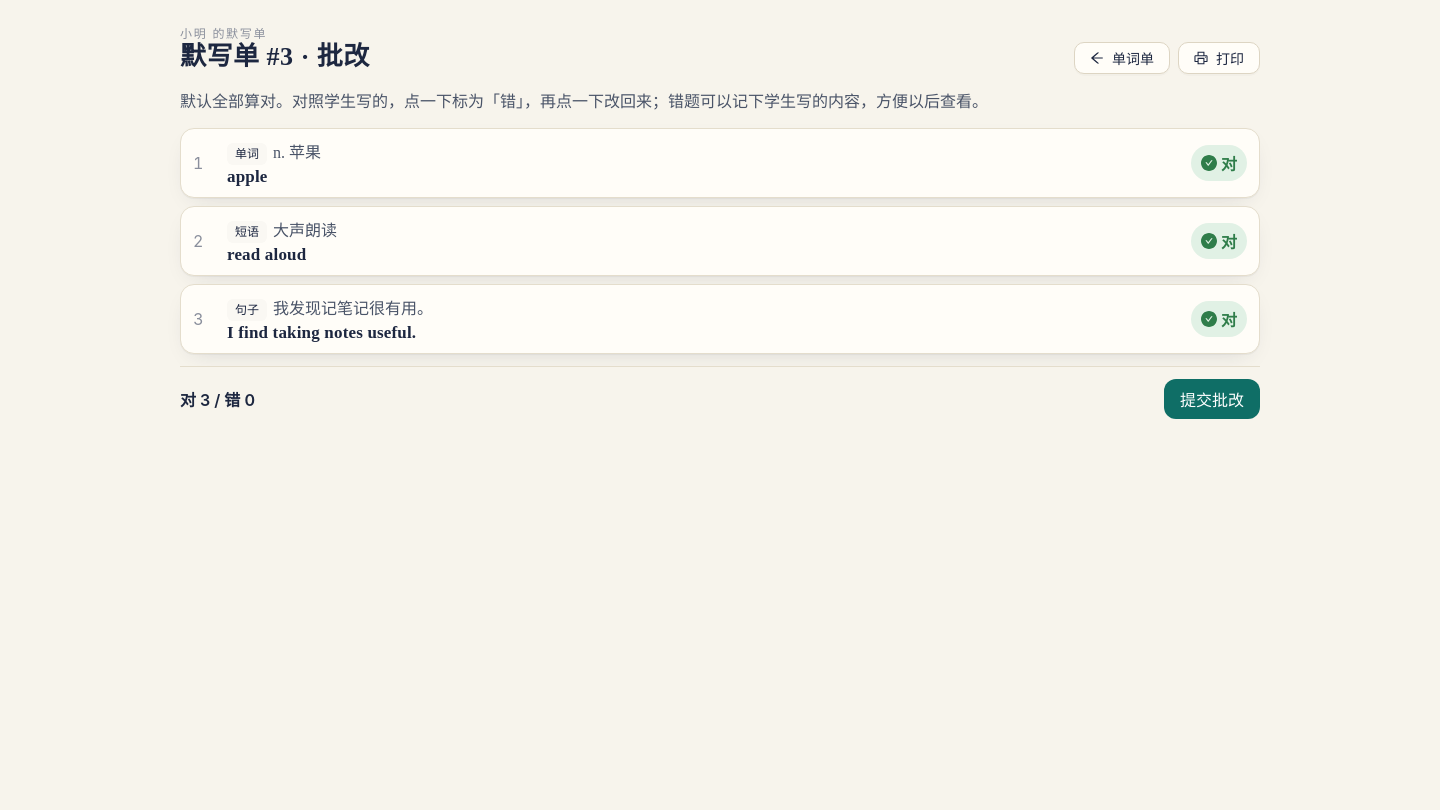
SheetGrade › 默认全对；点一下标错、再点改回；错题可记下内容；确认后按明细下标提交
This screenshot has width=1440, height=810.
Click the button "2 短语 大声朗读 read aloud 对" at {"x": 247, "y": 232}, box [181, 206, 1259, 274]
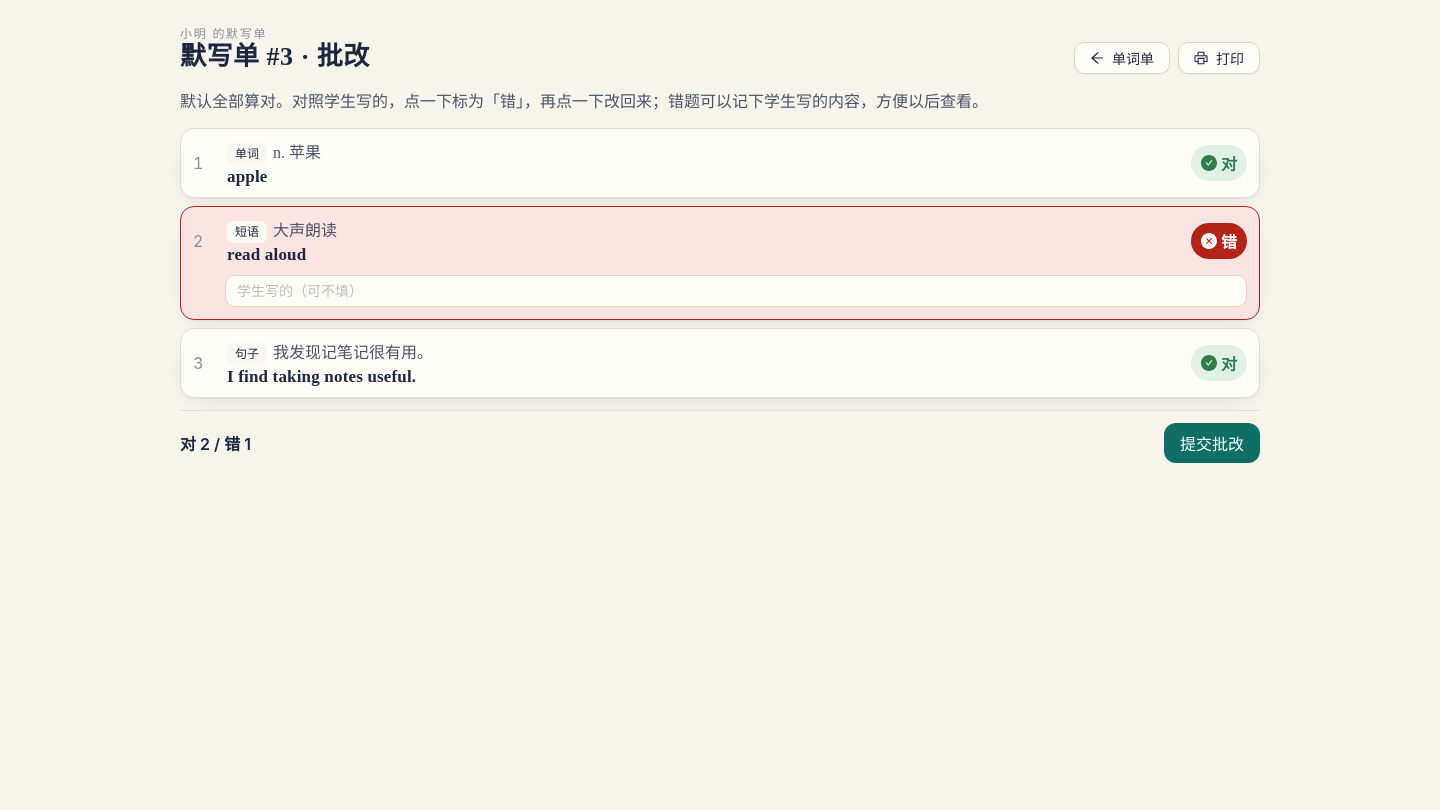
Click the button "3 句子 我发现记笔记很有用。 I find taking notes useful. 对" at {"x": 247, "y": 354}, box [181, 328, 1259, 396]
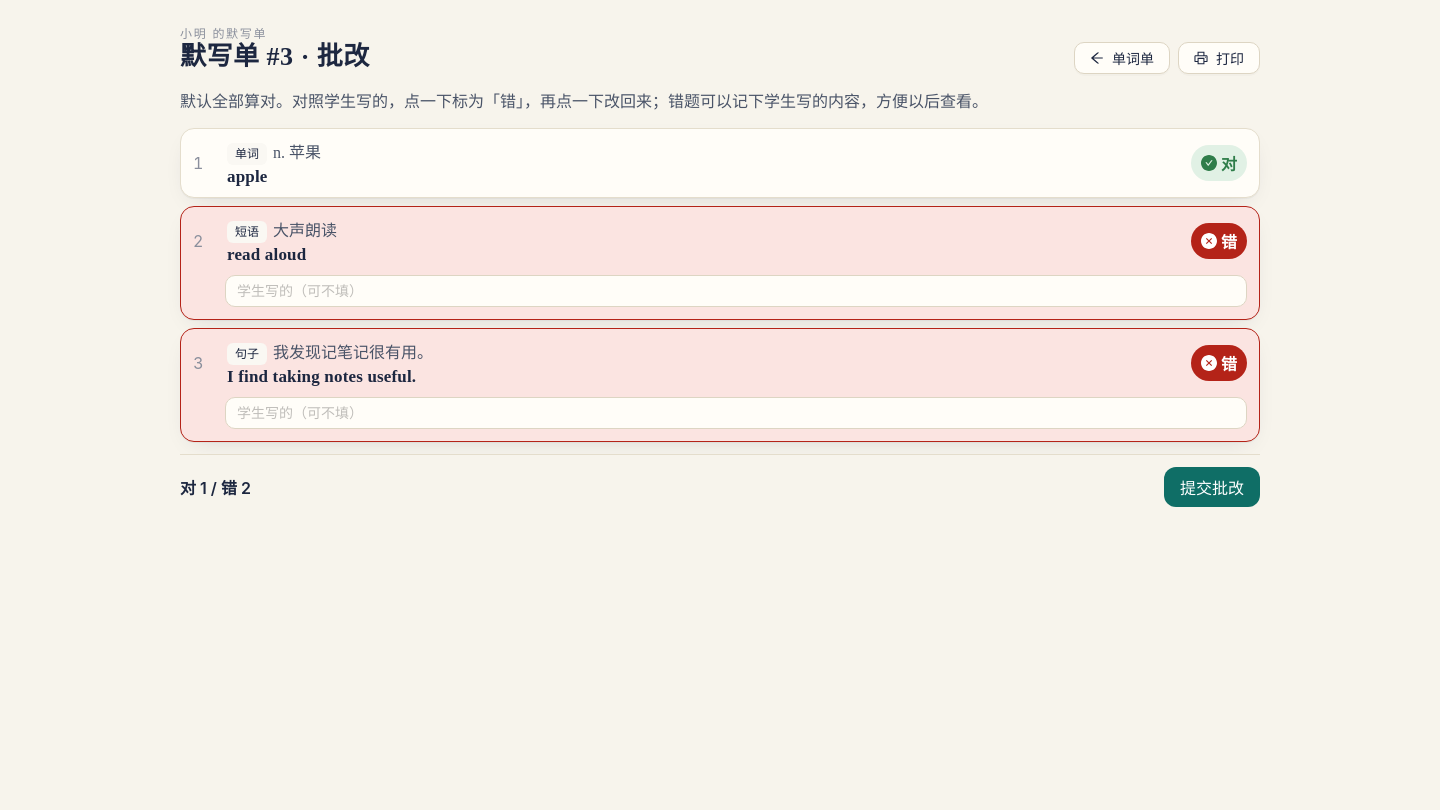
Click the button "1 单词 n. 苹果 apple 对" at {"x": 247, "y": 154}, box [181, 128, 1259, 196]
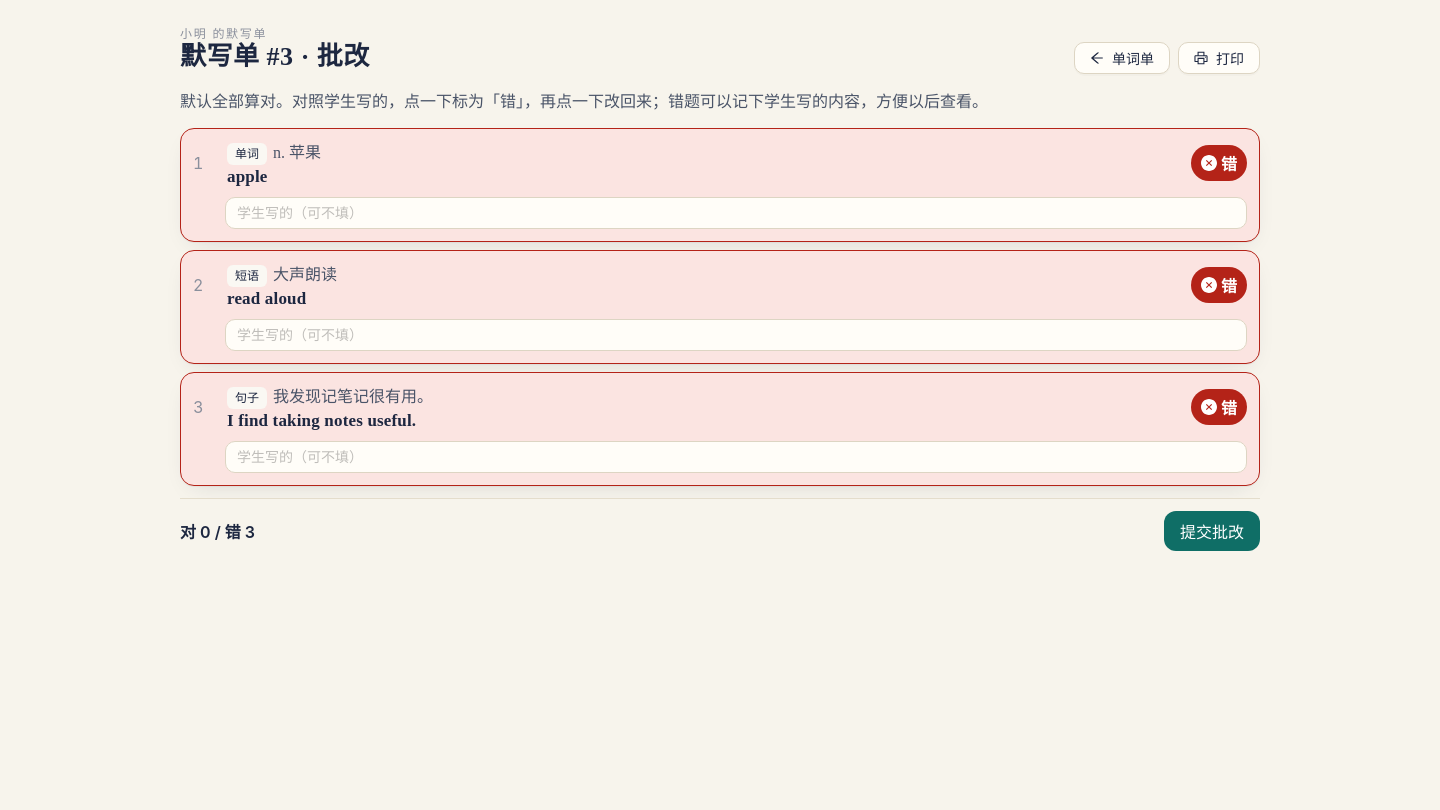
Click the button "1 单词 n. 苹果 apple 错" at {"x": 247, "y": 154}, box [181, 128, 1259, 196]
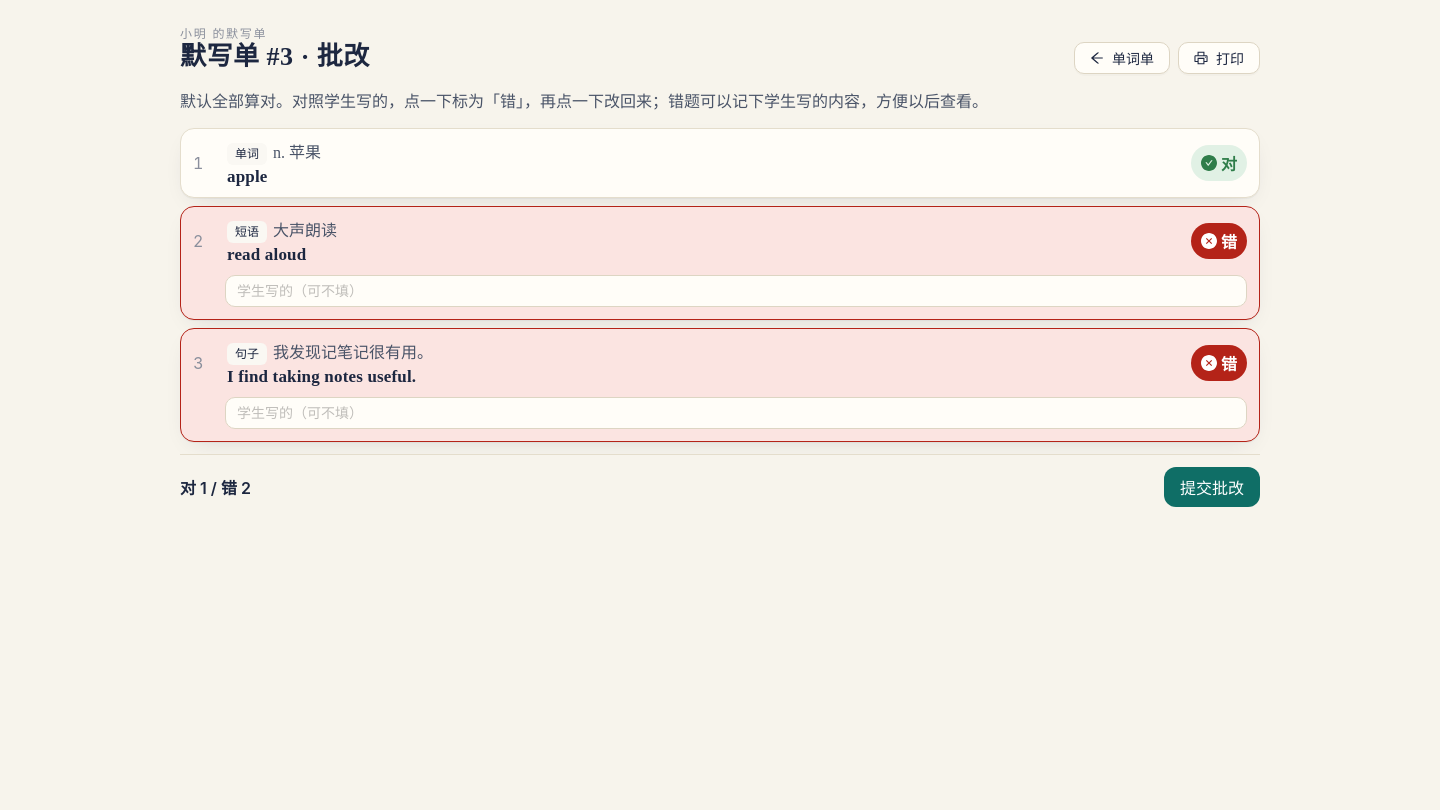
Result: the field named "第 2 题学生写的" is shown
Result: the text "对 1 / 错 2" is shown at [180, 478, 251, 498]
Type " read loud " into the field named "第 2 题学生写的" at {"x": 736, "y": 290}, box [225, 274, 1247, 306]
Click the button "提交批改" at {"x": 1212, "y": 486}, box [1164, 466, 1260, 506]
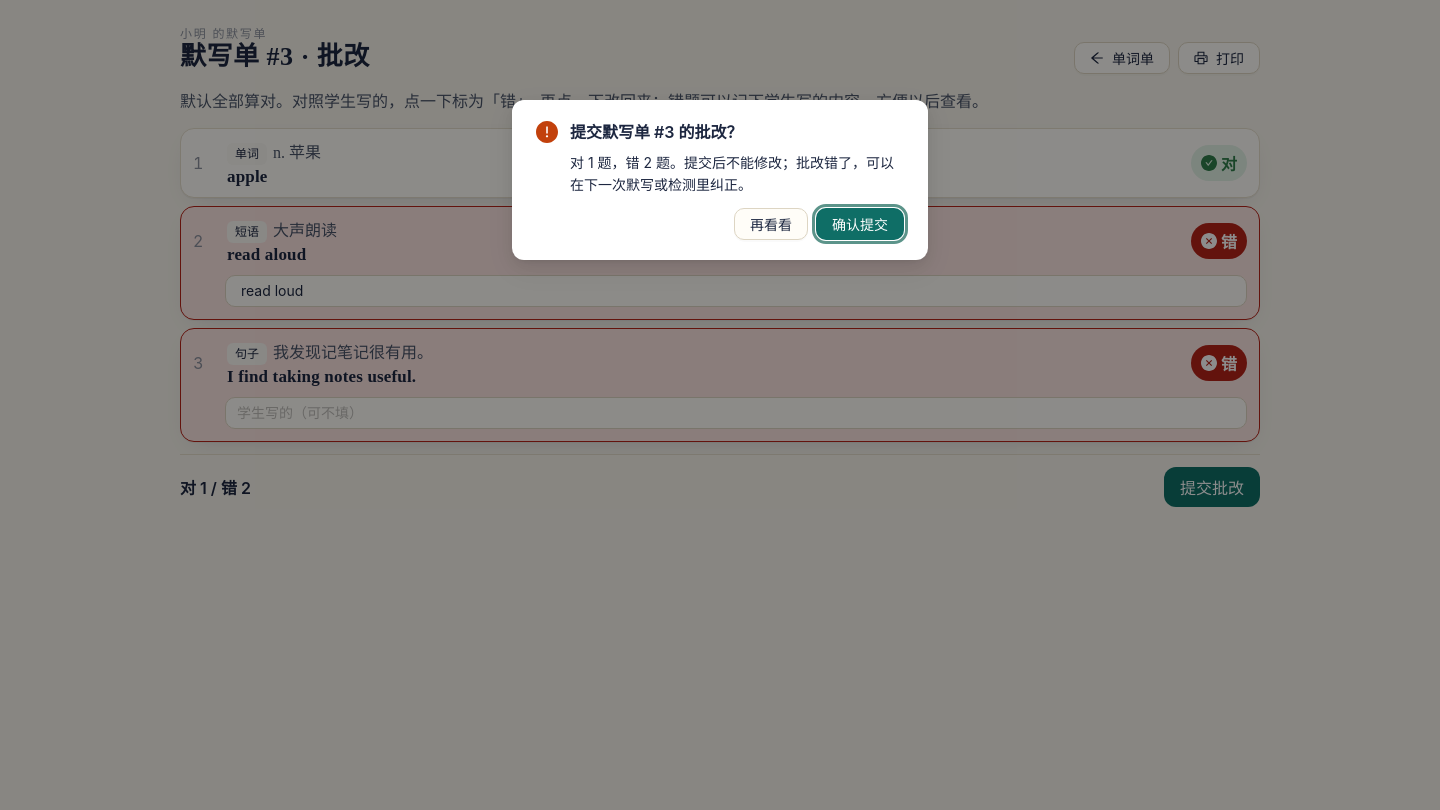
Result: the text "提交后不能修改" is shown at [570, 154, 894, 193]
Click the button "确认提交" at {"x": 860, "y": 224}, box [816, 208, 904, 240]
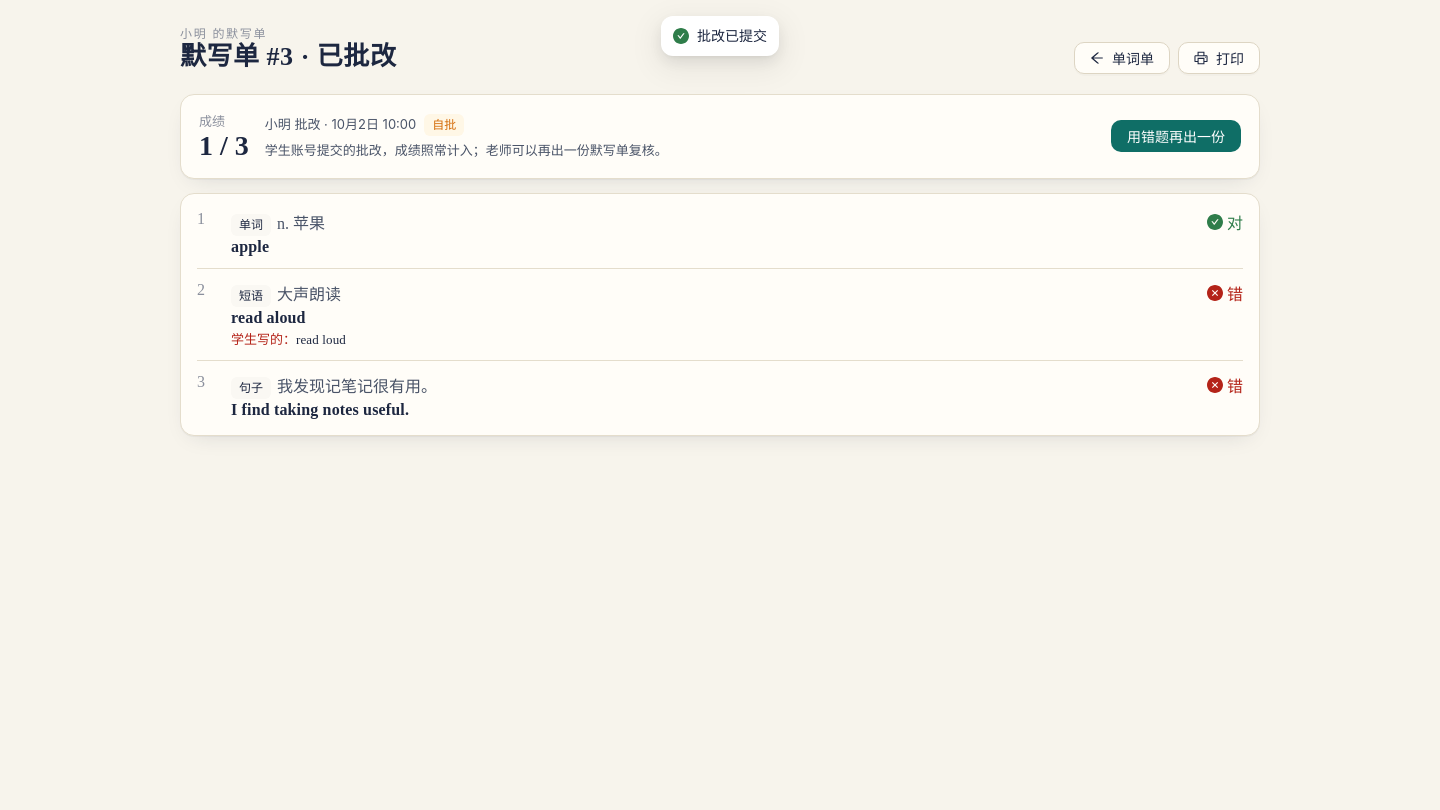
Result: the text "1 / 3" is shown at [199, 130, 249, 162]
Result: the link "用错题再出一份" is shown at [1111, 120, 1241, 152]
